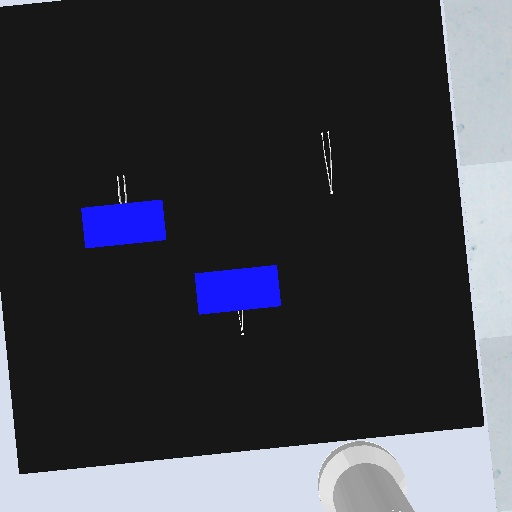pinza: (317, 127, 338, 197), (112, 173, 131, 204), (236, 308, 247, 339)
